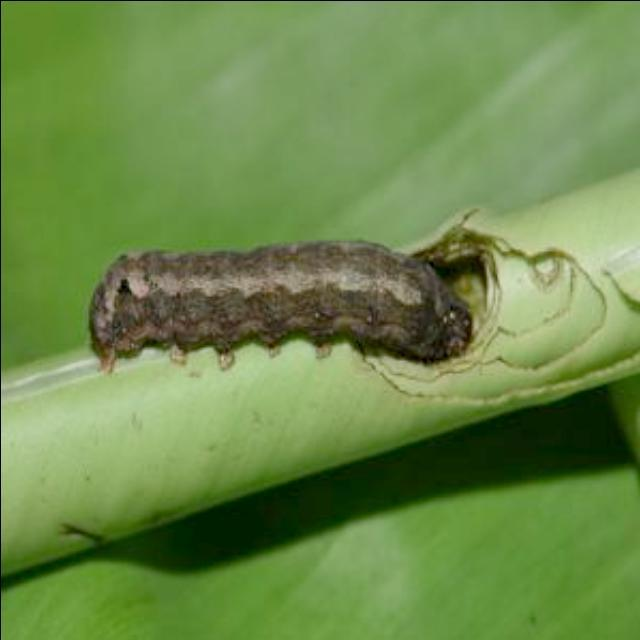Tobacco cutworm: (61, 175, 521, 438)
